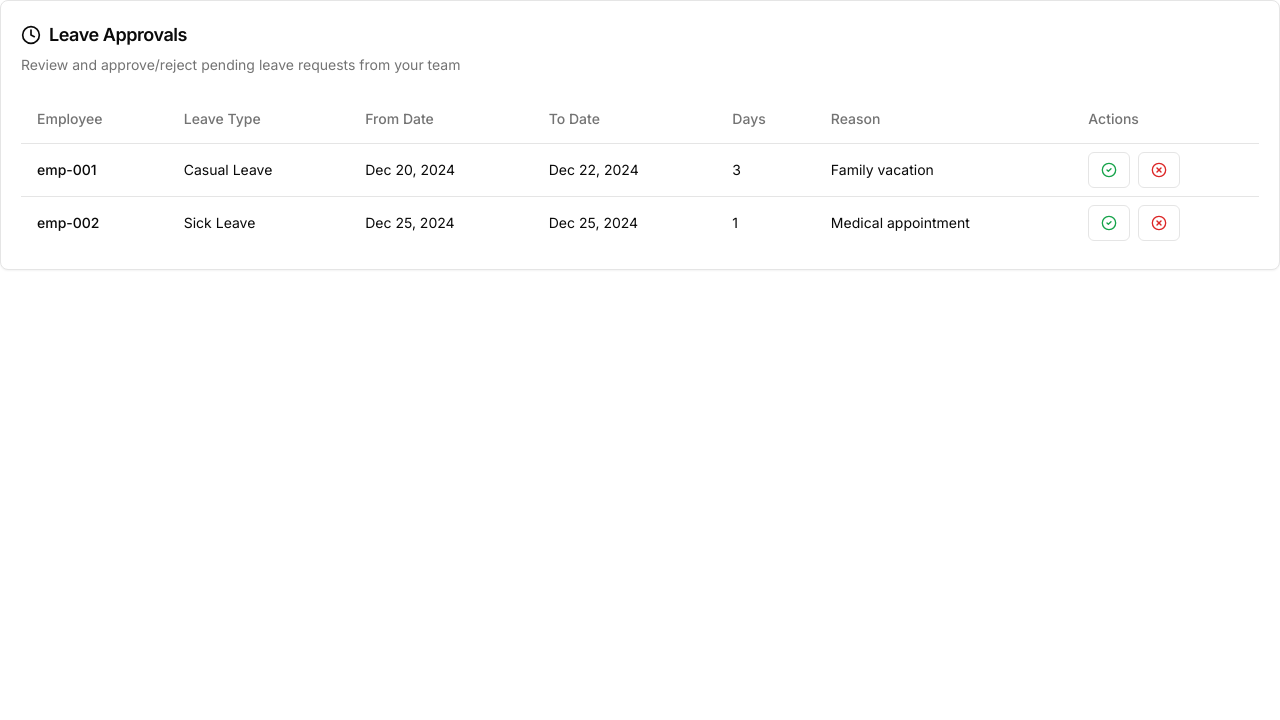
Test case: LeaveApprovalPanel Component › Leave Approval › should open approval dialog when approve button is clicked
What coordinates should you click on to do the following:
click the 1st button
I would click on:
 (1109, 170)
Its box is [1088,152,1130,188].
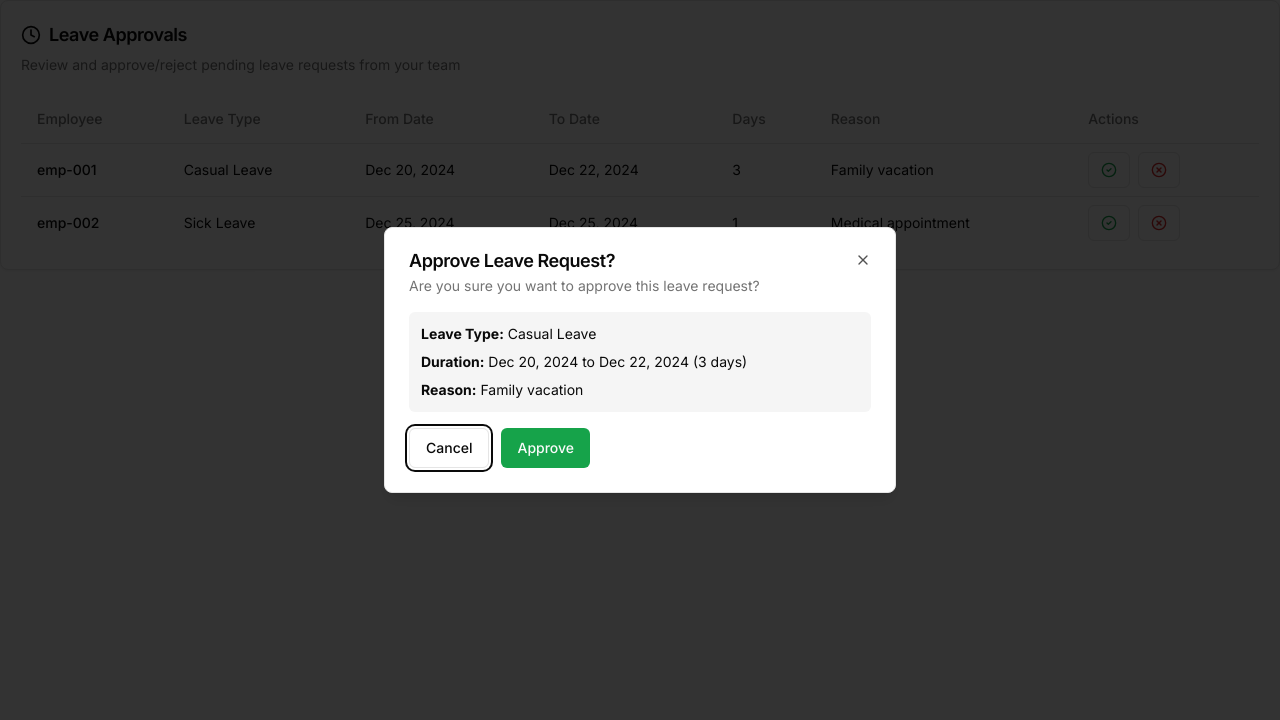
Result: the heading "Approve Leave Request?" is shown at [409,250,615,271]
